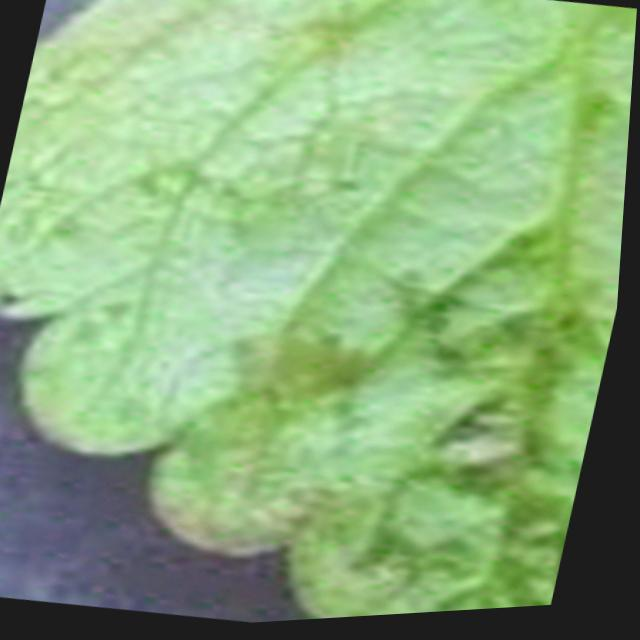Angular Leafspot: (136, 192, 625, 623)
